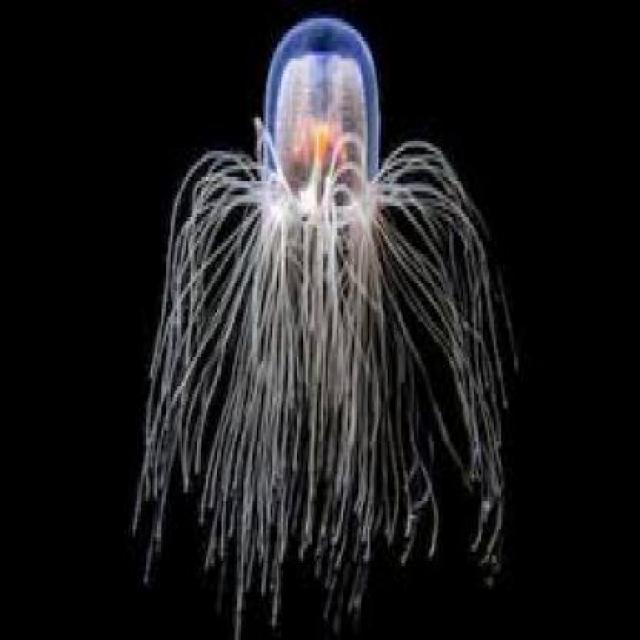Jellyfish: (118, 11, 516, 637)
